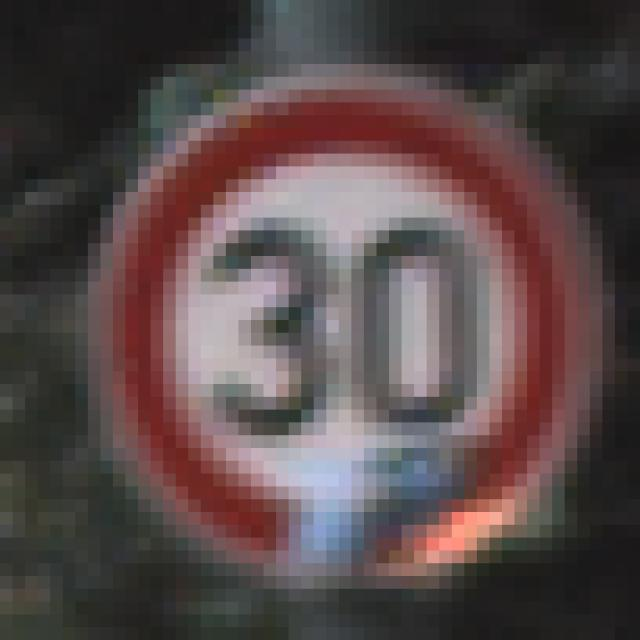Speed Limit -30-: (69, 70, 558, 570)
